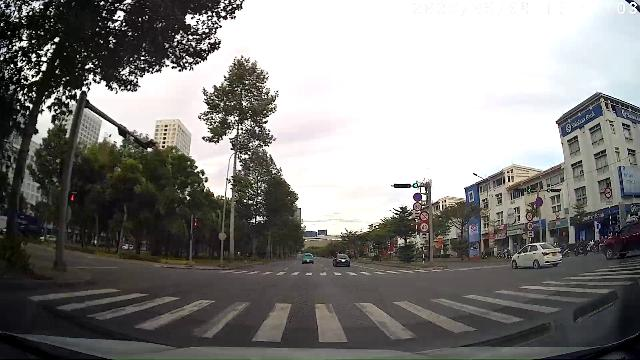127-toc-do-toi-da-60: (419, 222, 429, 232), (526, 222, 534, 230)
127-toc-do-toi-da-80: (413, 203, 421, 211)
130-cam-dung-va-do-xe: (413, 193, 422, 201)
